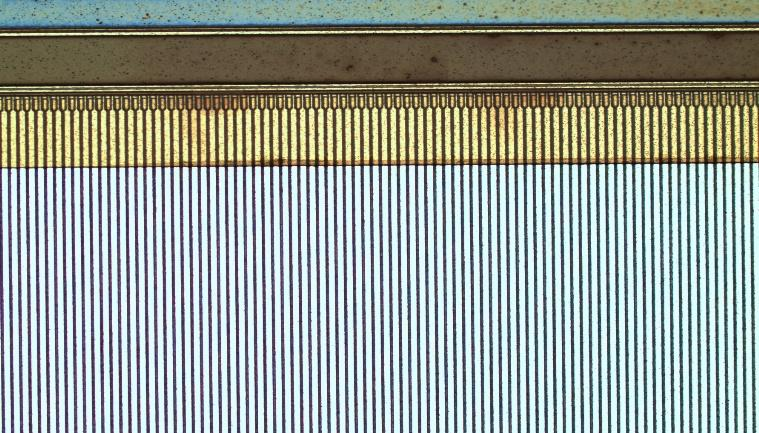SEZ BURNT: (138, 31, 582, 173)
